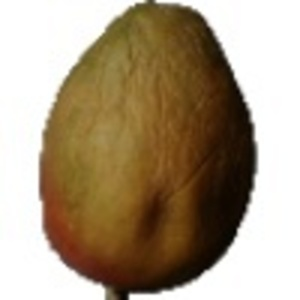mamão: (16, 2, 262, 291)
